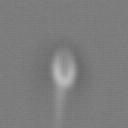normal: (45, 86, 81, 128)
